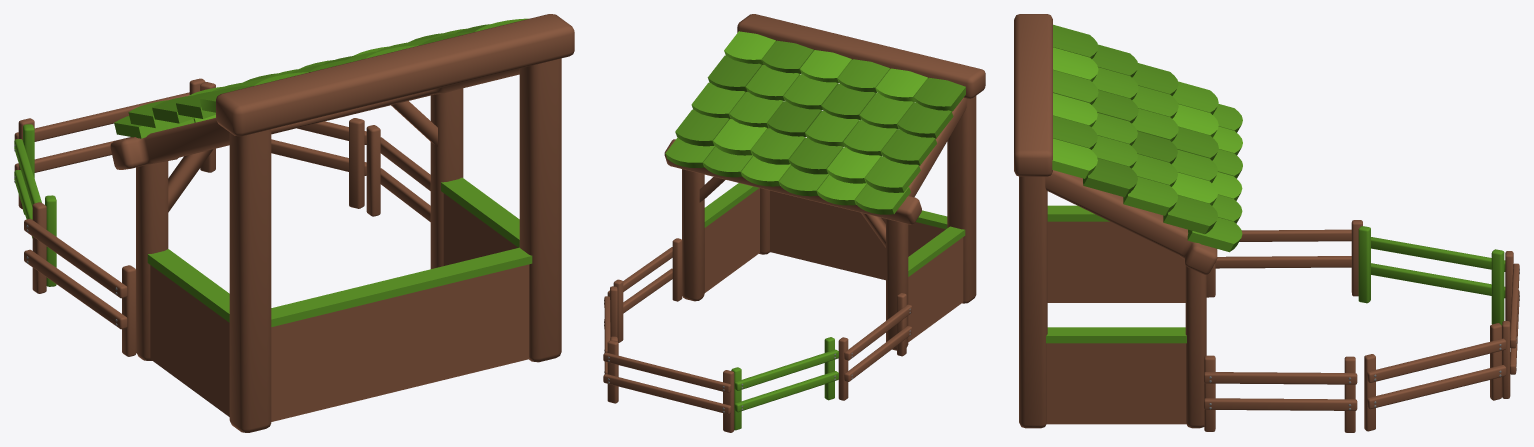
Rendered from Building10.fbx.
The picture shows the model from 3 angles, left to right: view 1: azimuth 30°, elevation 25°; view 2: azimuth 150°, elevation 25°; view 3: azimuth 270°, elevation 25°; orthographic projection. The views are drawn at different scales.
Parts seen in each view (by area): view 1: Cube.060, Cube.063; view 2: Cube.060, Cube.063; view 3: Cube.060, Cube.063.
Boxes of the visible parts, x1,y1,x2,y2 form: Cube.060: [14, 14, 574, 432]; Cube.063: [14, 124, 56, 286]; Cube.060: [603, 14, 985, 432]; Cube.063: [731, 337, 838, 430]; Cube.060: [1014, 14, 1519, 432]; Cube.063: [1358, 226, 1505, 325].
Size of the model in its own units: 6.38 by 9.2 by 5.66.
